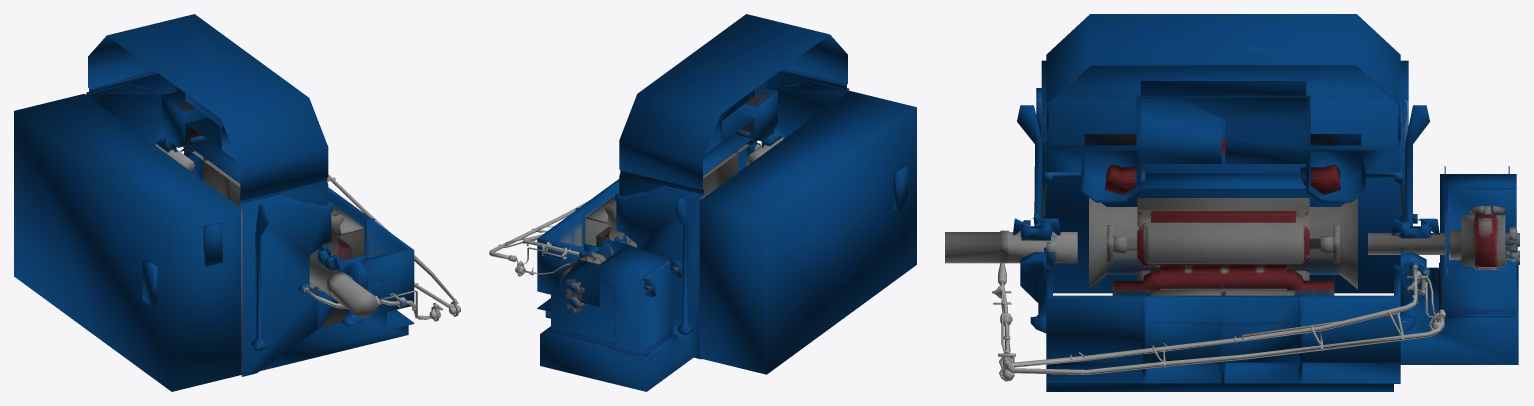
The model's file is motor.glb.
3 renders of one model, left to right at view 1: azimuth 30°, elevation 25°; view 2: azimuth 150°, elevation 25°; view 3: azimuth 270°, elevation 25°, orthographic. The views are drawn at different scales.
Parts seen in each view (by area): view 1: aiprintgen_node_4c72b31e-1d49-4b27-ae41-6f168802a33c; view 2: aiprintgen_node_4c72b31e-1d49-4b27-ae41-6f168802a33c; view 3: aiprintgen_node_4c72b31e-1d49-4b27-ae41-6f168802a33c.
Boxes of the visible parts, x1=… form: aiprintgen_node_4c72b31e-1d49-4b27-ae41-6f168802a33c: x1=14, y1=14, x2=460, y2=391; aiprintgen_node_4c72b31e-1d49-4b27-ae41-6f168802a33c: x1=489, y1=14, x2=916, y2=391; aiprintgen_node_4c72b31e-1d49-4b27-ae41-6f168802a33c: x1=945, y1=14, x2=1519, y2=391.
Bounding box in the file's own units: 0.6738 × 0.541 × 0.998.
1 material, 1 textured.
